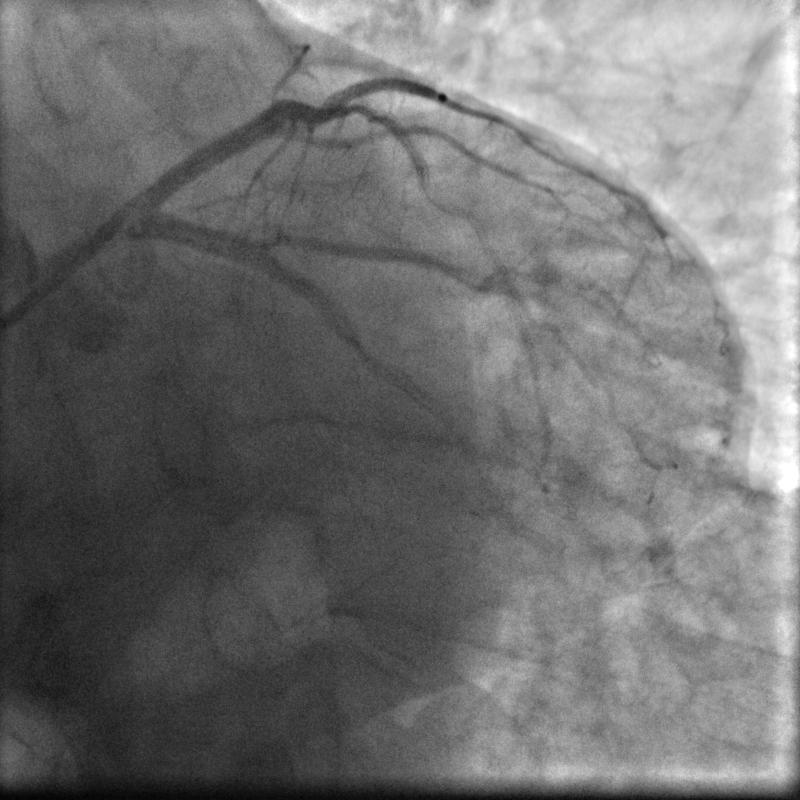Stenosis: (353, 324, 381, 373)
